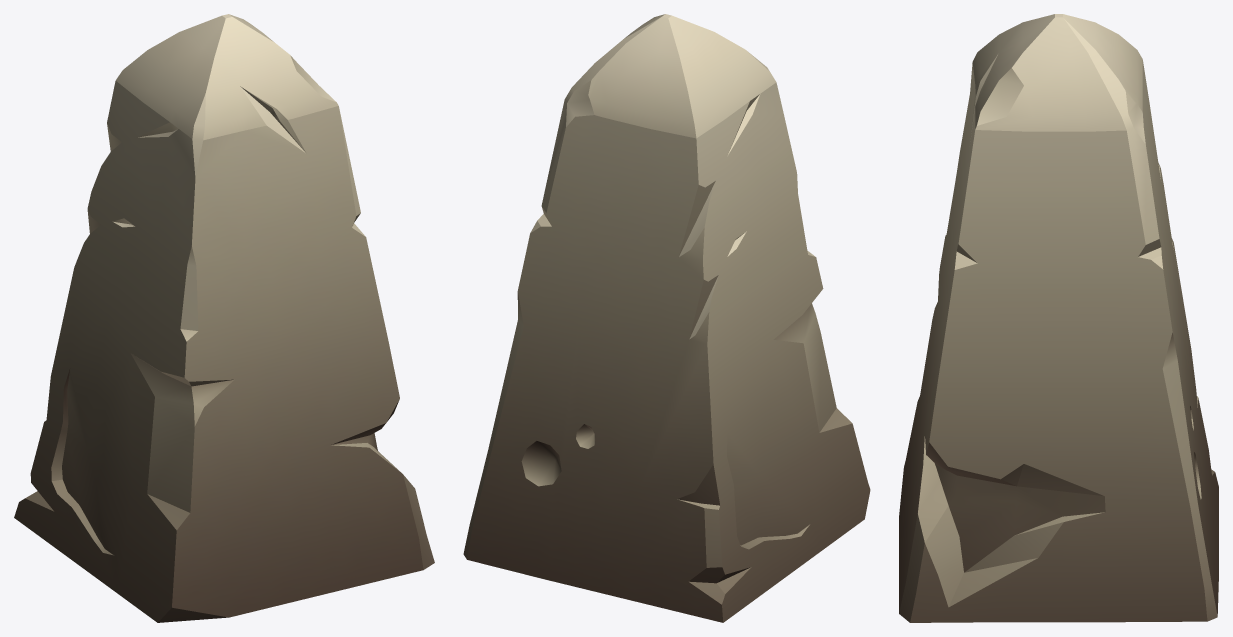
File: Obelisk_1B.fbx
3 views of the same model, side by side, from view 1: azimuth 30°, elevation 25°; view 2: azimuth 150°, elevation 25°; view 3: azimuth 270°, elevation 25° (orthographic). The views are drawn at different scales.
Parts seen in each view (by area): view 1: Obelisk_1B; view 2: Obelisk_1B; view 3: Obelisk_1B.
Part boxes in pixels (<box>): Obelisk_1B: <box>14,14,434,622</box>; Obelisk_1B: <box>463,14,870,622</box>; Obelisk_1B: <box>899,14,1218,622</box>.
Size of the model in its own units: 229 by 427 by 229.
